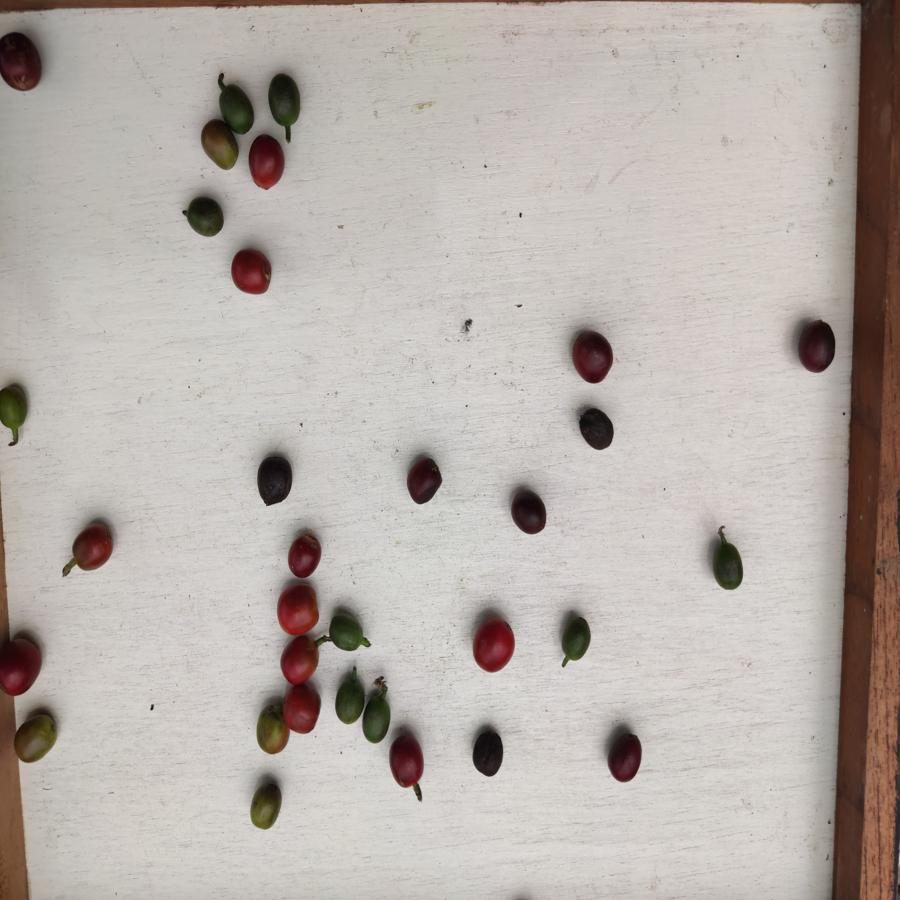Inmaduro: (180, 194, 227, 237), (267, 73, 301, 128), (218, 83, 254, 133), (712, 541, 747, 592), (327, 611, 365, 652), (333, 678, 365, 725), (1, 382, 31, 432), (362, 695, 392, 742), (561, 617, 593, 661)
Maduro: (1, 634, 43, 694), (469, 618, 516, 671), (274, 584, 321, 633), (246, 133, 285, 191), (229, 248, 273, 295), (71, 525, 115, 571), (278, 635, 318, 684), (284, 688, 322, 736)
Pinton: (14, 714, 58, 763), (201, 122, 240, 169), (249, 781, 282, 830), (256, 705, 286, 756)
Sobremaduro: (1, 31, 46, 93), (569, 327, 612, 387), (798, 319, 835, 372), (390, 735, 428, 786), (256, 454, 291, 507), (608, 733, 644, 784), (405, 458, 442, 506), (510, 489, 550, 533), (578, 409, 618, 452), (471, 732, 507, 777), (288, 535, 322, 578)
